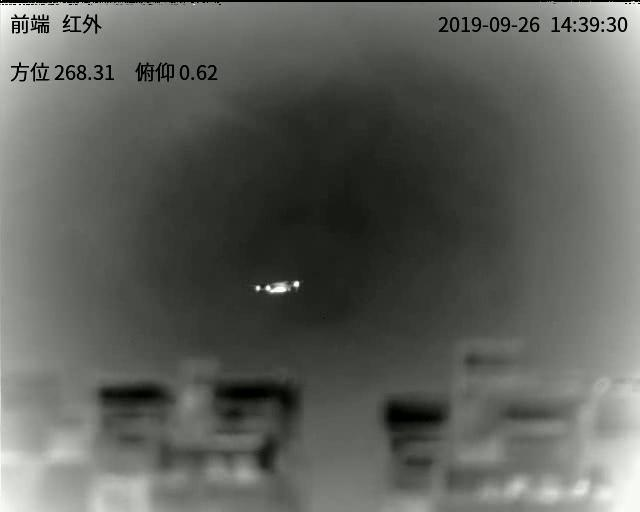DRONE: (251, 277, 304, 296)
